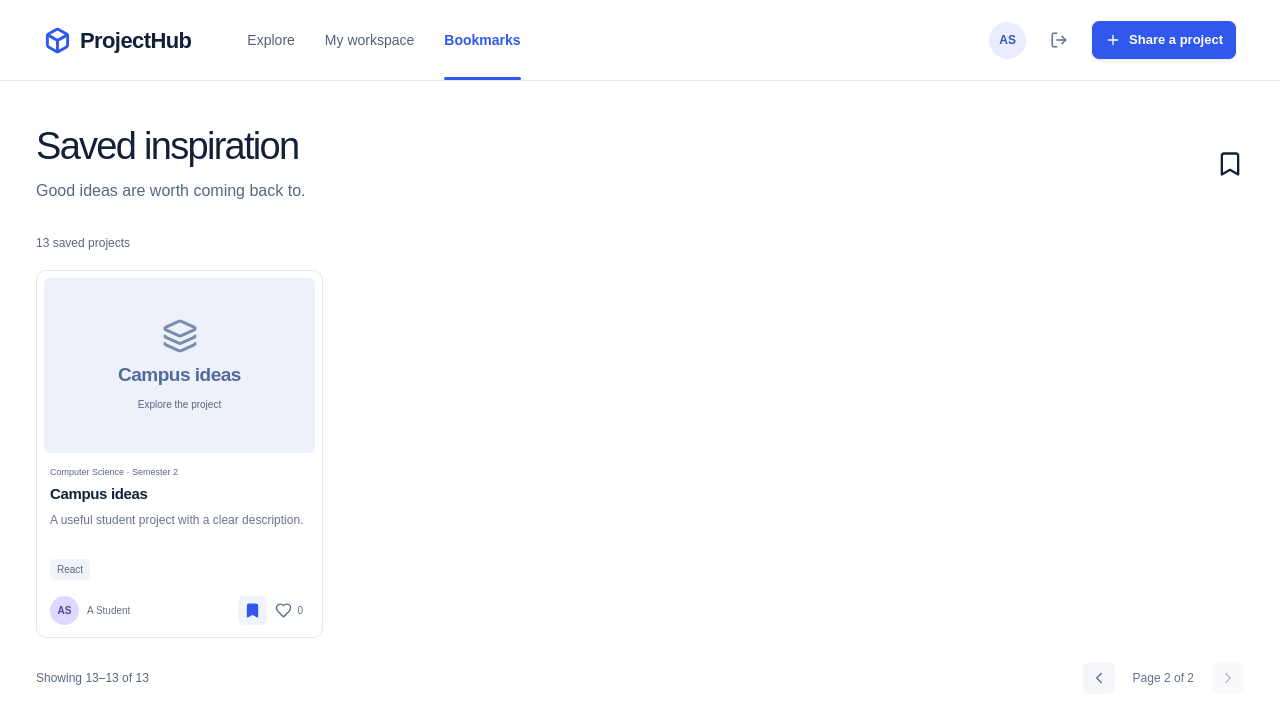
Test: removing the last item on a bookmark page reloads it before stepping back
What coordinates should you click on to do the following:
click the button named "Unsave Campus ideas"
I would click on:
 (253, 610)
Its box is x1=238 y1=596 x2=267 y2=625.
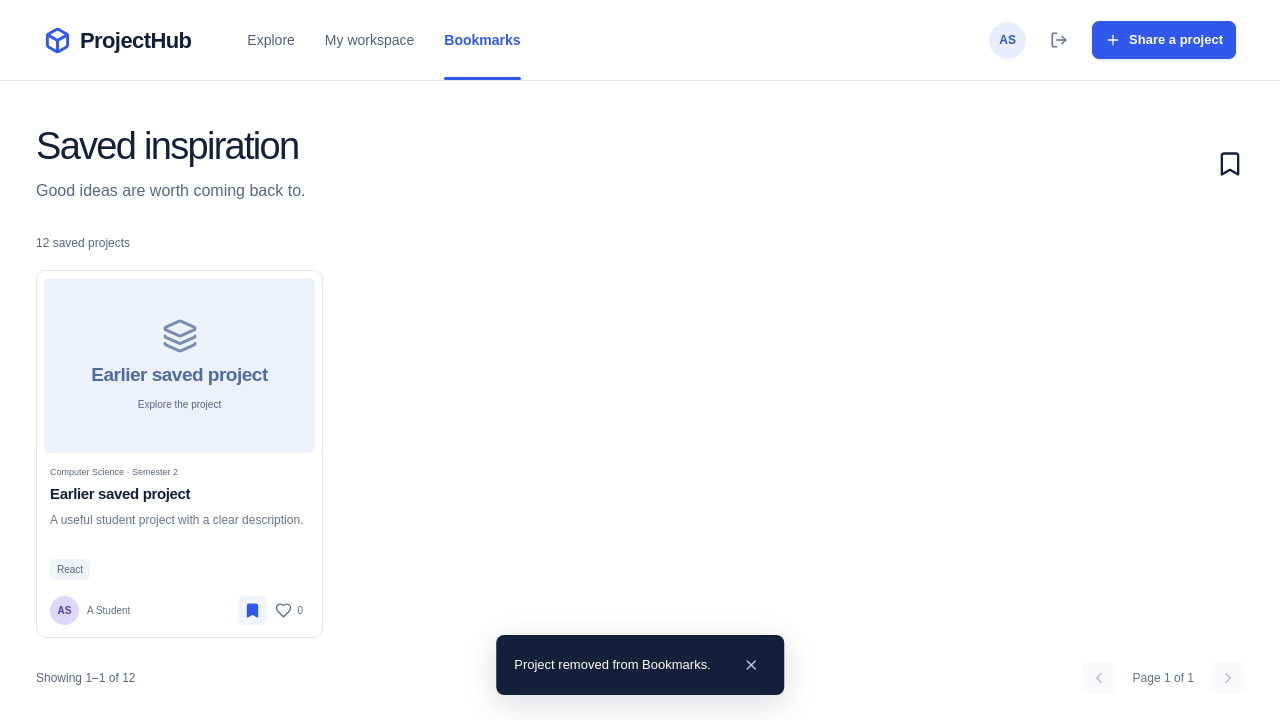
expect the element "Earlier saved project" is shown: met, box x1=36 y1=270 x2=323 y2=638
